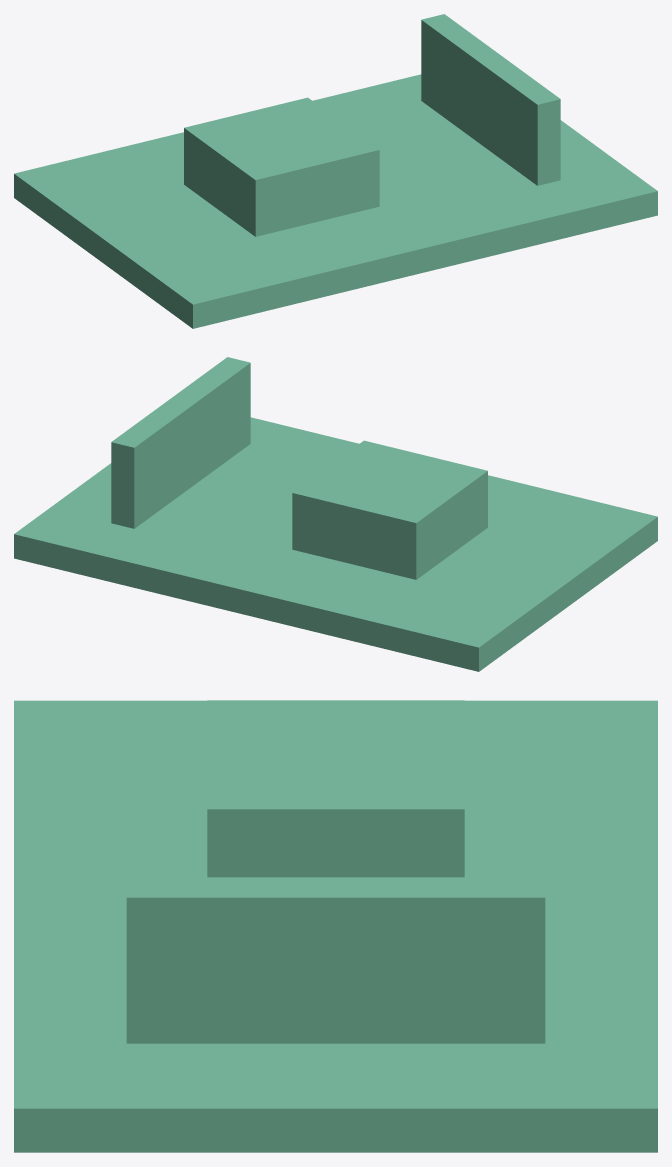
File: hardware-meshopt.glb
The picture shows the model from 3 angles, top to bottom: view 1: azimuth 30°, elevation 25°; view 2: azimuth 150°, elevation 25°; view 3: azimuth 270°, elevation 25°; orthographic projection. The views are drawn at different scales.
Visible parts, largest first — view 1: Placa, Chip (×2); view 2: Placa, Chip (×2); view 3: Placa, Chip (×2).
Part boxes in pixels (left/top/right/bottom): Placa: left=14, top=74, right=657, bottom=328; Chip (×2): left=184, top=14, right=560, bottom=236; Placa: left=14, top=417, right=657, bottom=671; Chip (×2): left=111, top=357, right=487, bottom=579; Placa: left=14, top=700, right=657, bottom=1152; Chip (×2): left=126, top=700, right=545, bottom=1043.
Bounding box in the file's own units: 3 × 0.675 × 2.
